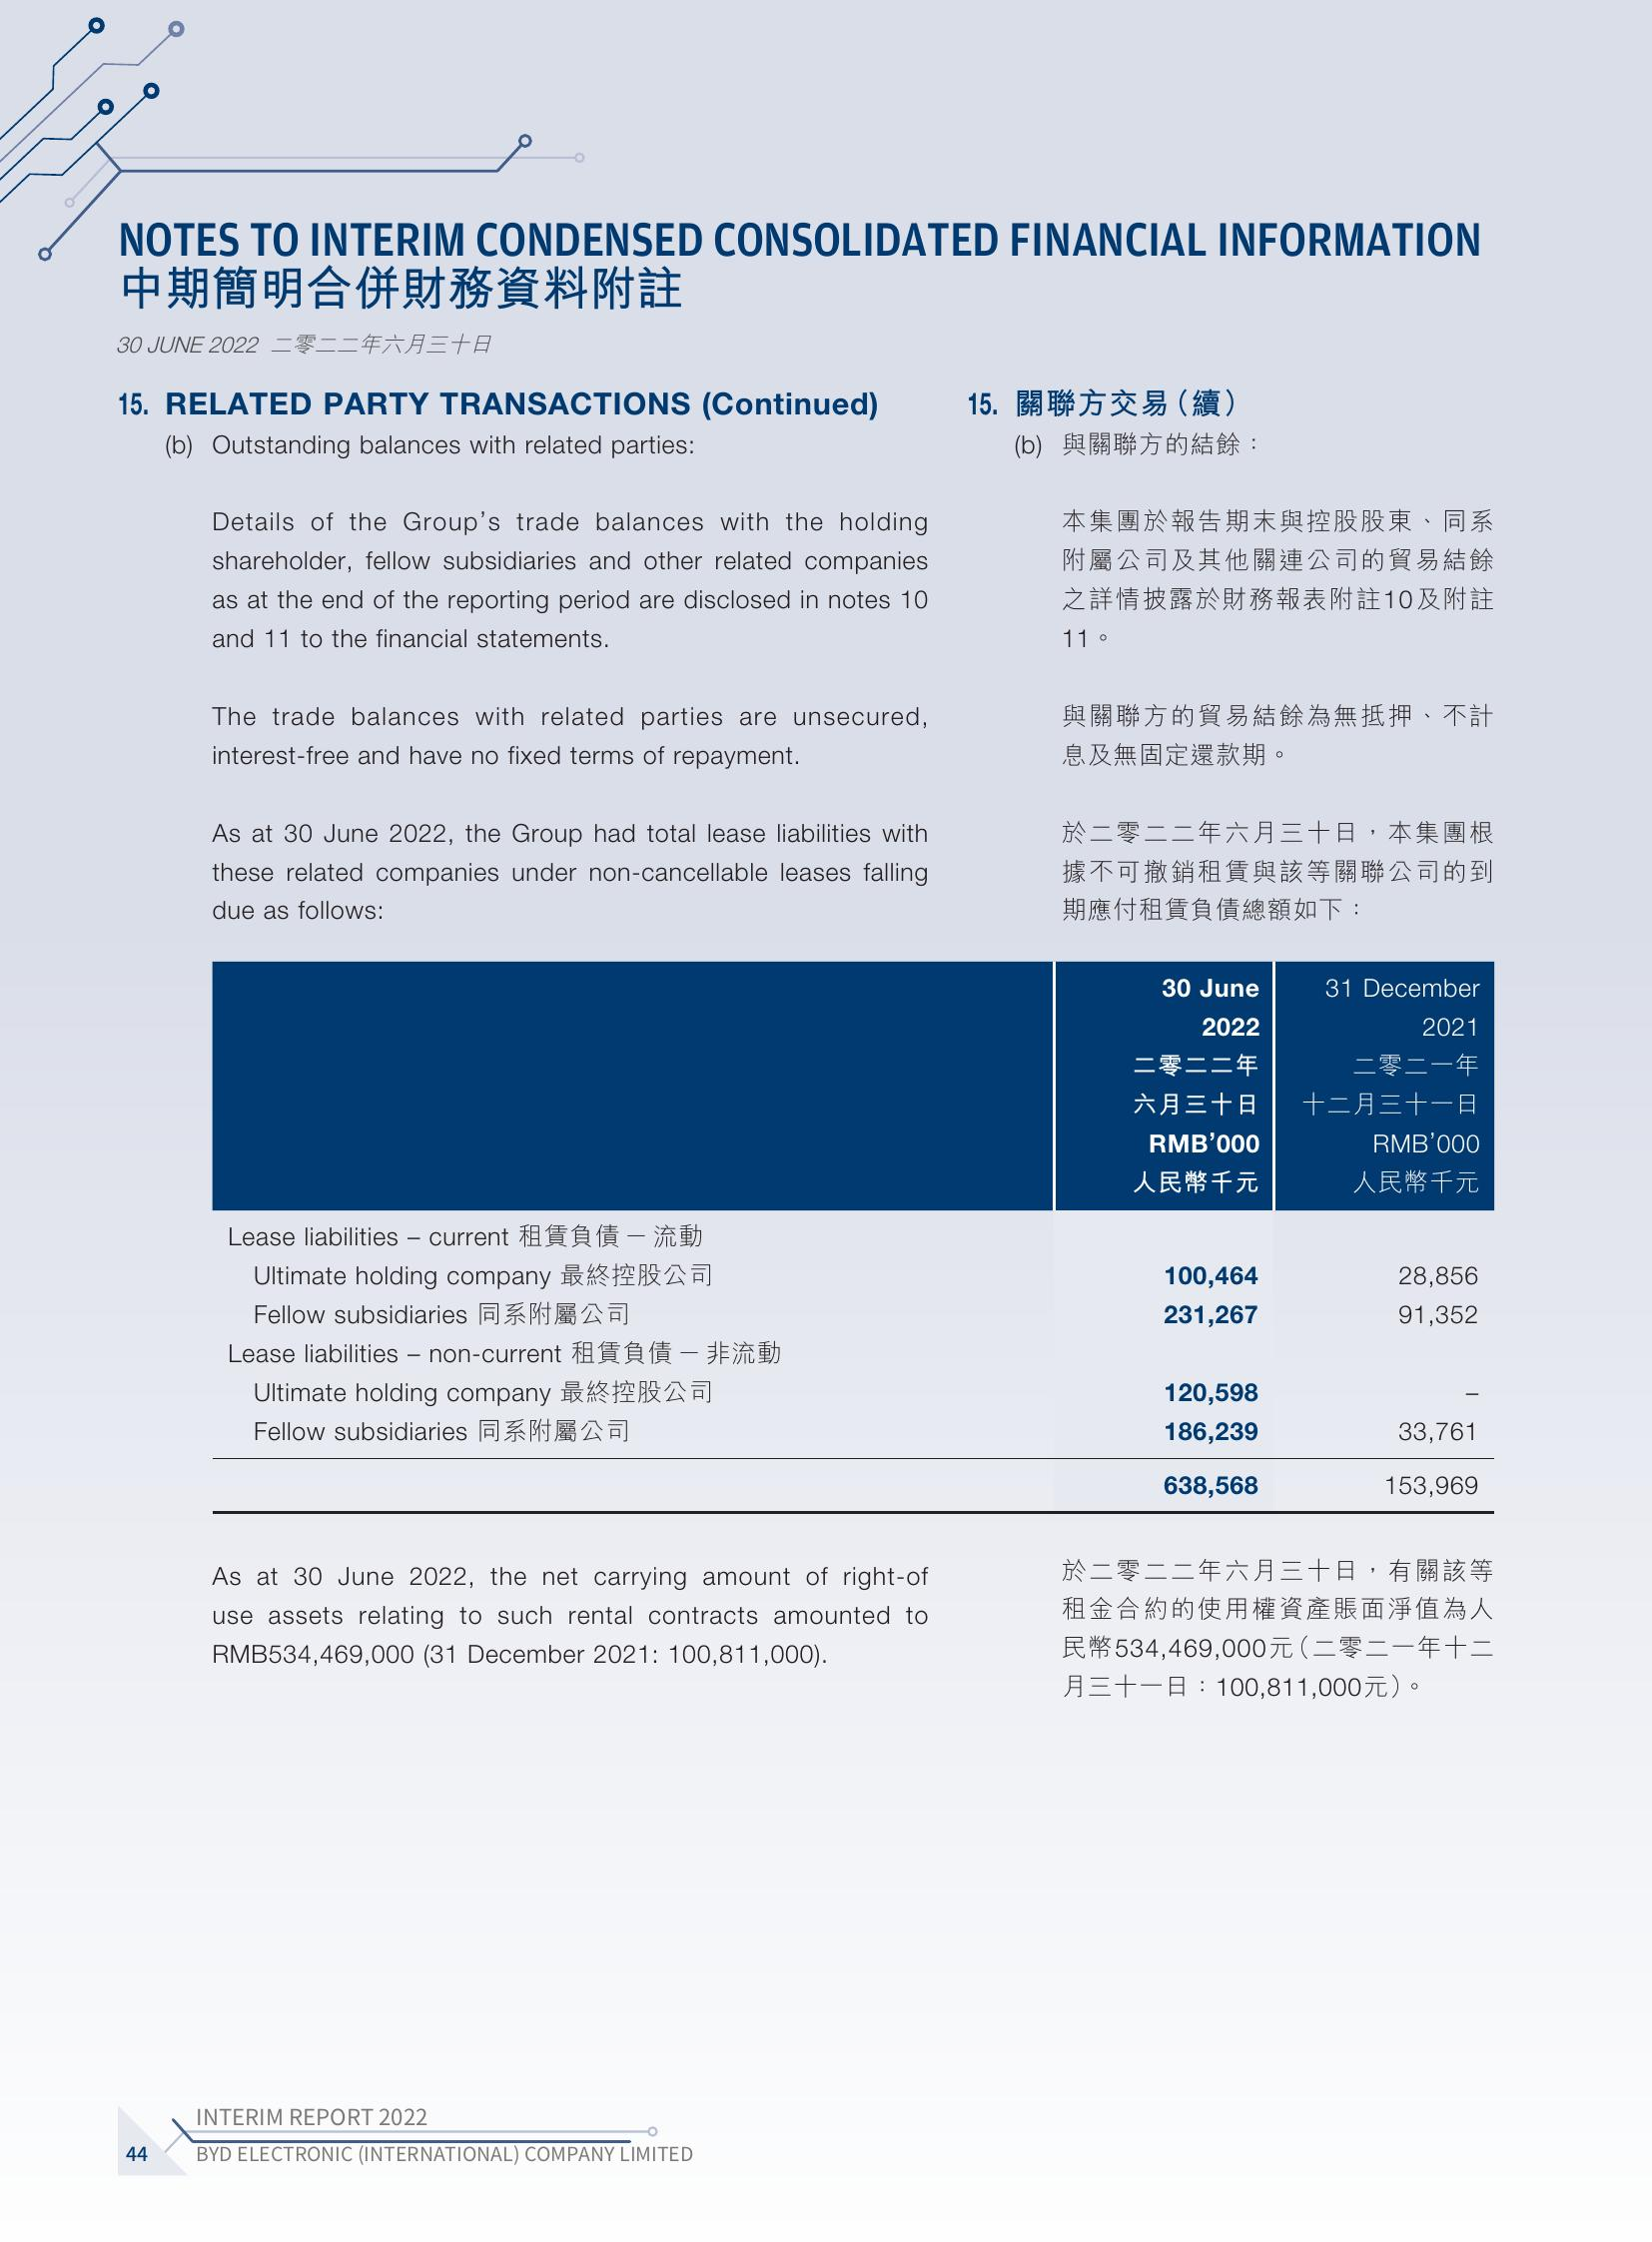Footer: (0, 2084, 1652, 2242)
Header: (0, 0, 1652, 174)
Table: (200, 926, 1534, 1521)
